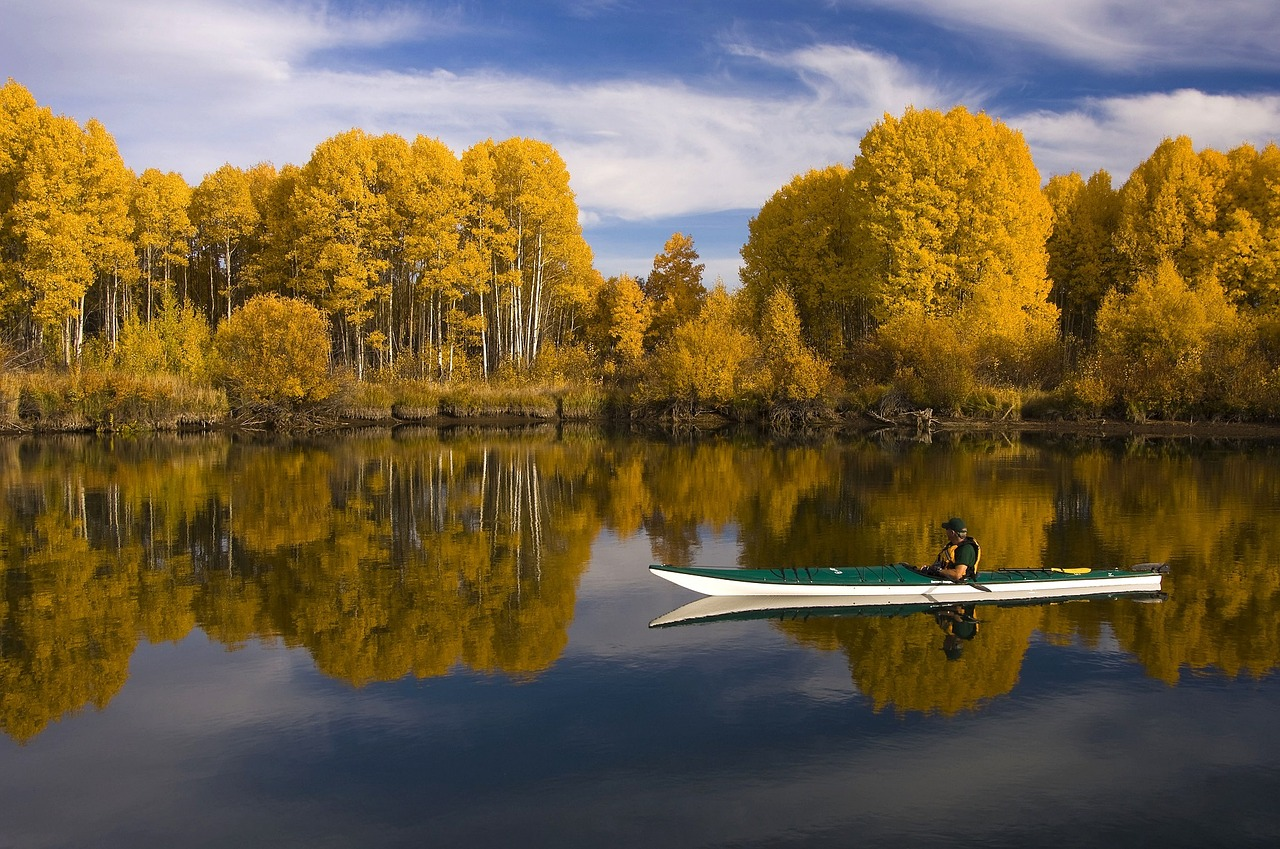kayak: (646, 554, 1166, 604)
